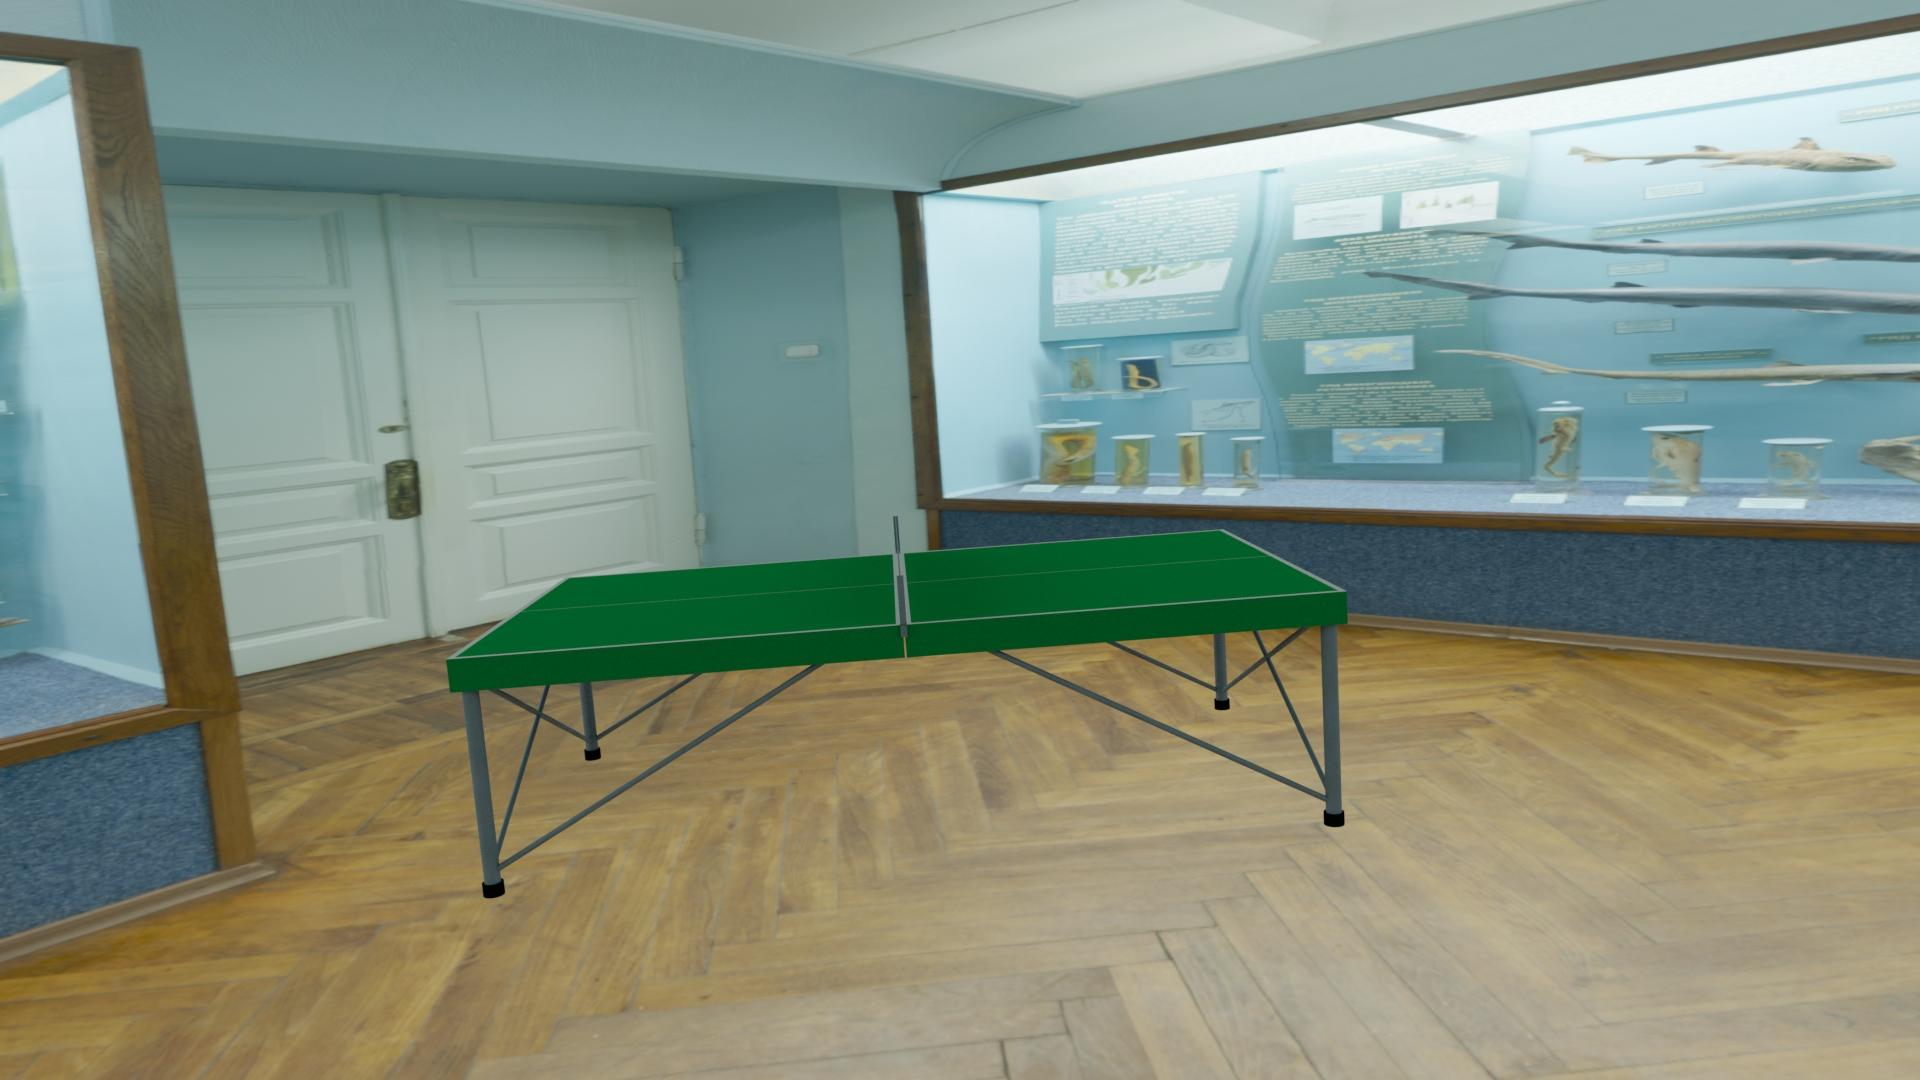table: (455, 530, 1338, 658)
